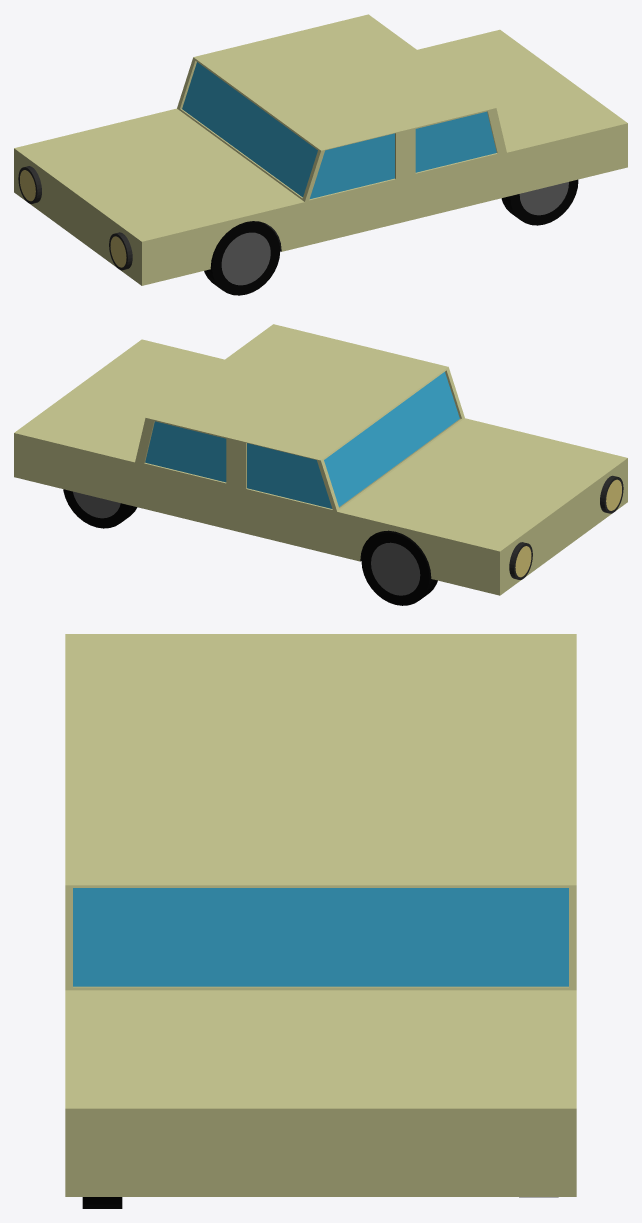
Rendered from car2 copy.fbx.
3 views of the same model, one above another, from view 1: azimuth 30°, elevation 25°; view 2: azimuth 150°, elevation 25°; view 3: azimuth 270°, elevation 25° (orthographic). The views are drawn at different scales.
Visible parts, largest first — view 1: Cylinder; view 2: Cylinder; view 3: Cylinder.
Boxes of the visible parts, box(x1,y1,x2,y2) form: Cylinder: box(14, 14, 627, 295); Cylinder: box(14, 324, 627, 605); Cylinder: box(65, 634, 576, 1208).
Bounding box in the file's own units: 677 × 175 × 305.
